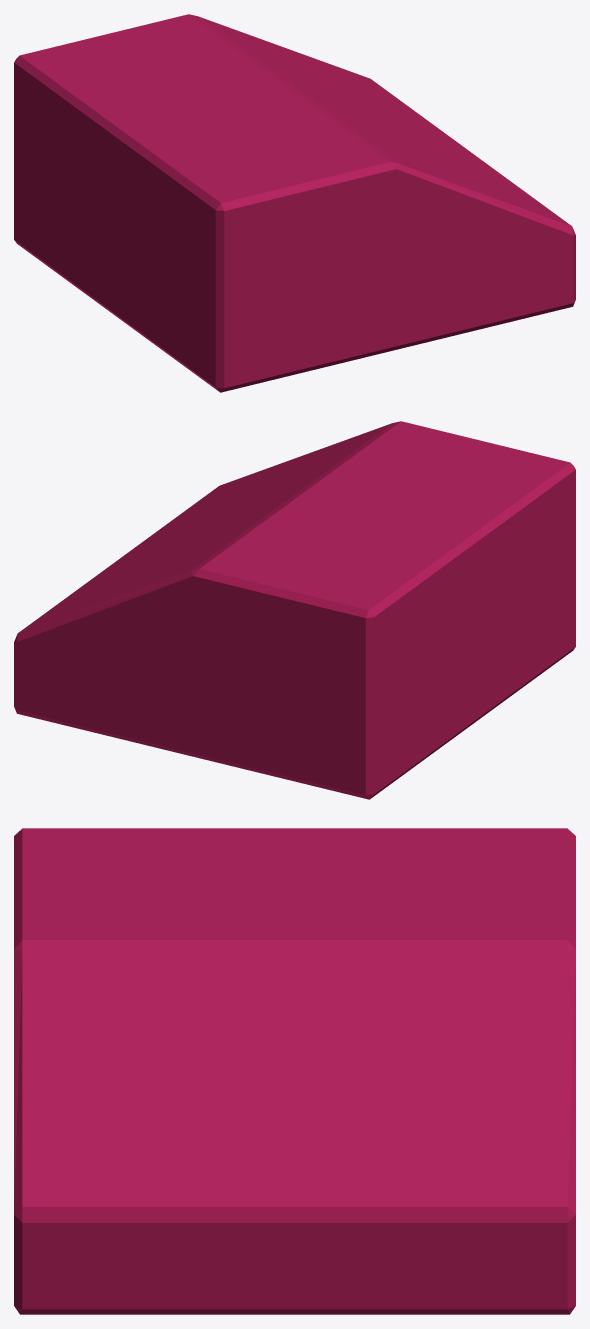
Rendered from Part_roof_2X1_simple.FBX.
3 renders of one model, top to bottom at view 1: azimuth 30°, elevation 25°; view 2: azimuth 150°, elevation 25°; view 3: azimuth 270°, elevation 25°, orthographic. The views are drawn at different scales.
Parts seen in each view (by area): view 1: Part_roof_2X1_simple; view 2: Part_roof_2X1_simple; view 3: Part_roof_2X1_simple.
Part boxes in pixels (x1,y1,x2,y2): Part_roof_2X1_simple: [14, 14, 575, 392]; Part_roof_2X1_simple: [14, 421, 575, 799]; Part_roof_2X1_simple: [14, 828, 575, 1314].
Bounding box in the file's own units: 200 × 100 × 200.
